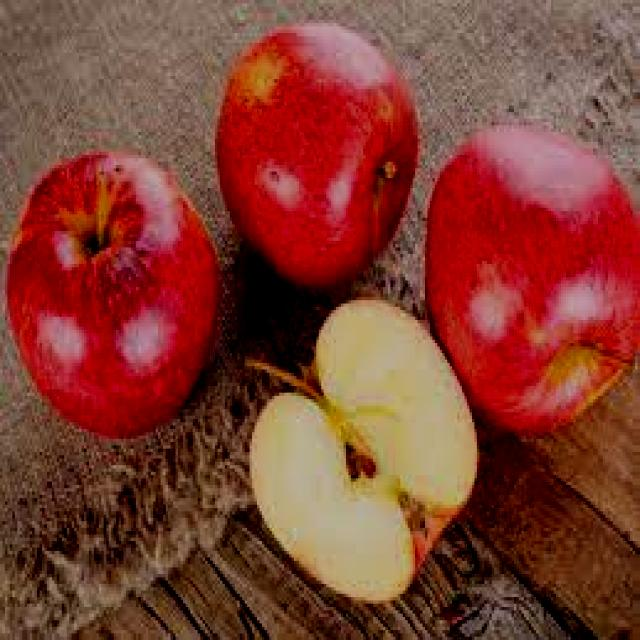Apple: (245, 297, 478, 604), (422, 118, 638, 436), (5, 145, 220, 439), (212, 17, 420, 290)
